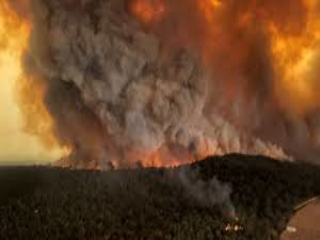smoke: (40, 19, 221, 157)
